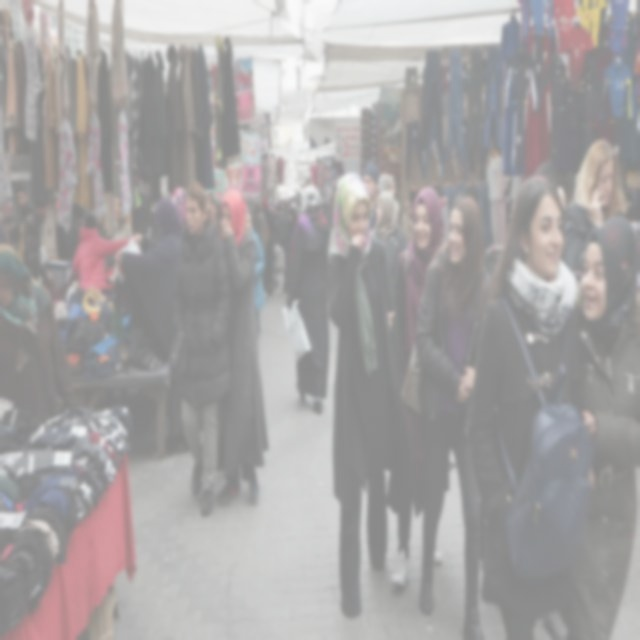pessoa: (466, 171, 600, 638), (400, 189, 496, 639), (546, 221, 640, 639), (326, 170, 398, 618), (383, 181, 453, 592), (166, 177, 232, 519), (206, 185, 269, 506), (114, 196, 189, 456), (282, 180, 334, 416), (561, 137, 627, 283), (70, 210, 132, 298), (368, 188, 408, 289), (484, 142, 518, 246), (22, 204, 55, 283), (268, 197, 288, 288), (260, 195, 276, 298), (533, 157, 567, 205), (252, 200, 270, 290), (284, 205, 300, 300), (362, 158, 381, 232), (63, 202, 85, 262), (130, 176, 152, 235), (14, 184, 37, 229), (110, 201, 134, 244), (54, 186, 68, 256), (320, 179, 334, 229), (205, 190, 222, 230), (170, 184, 187, 223), (400, 197, 414, 244), (432, 182, 448, 220), (205, 192, 222, 226), (378, 171, 397, 196), (242, 207, 254, 237), (636, 200, 639, 316), (288, 190, 302, 213)
